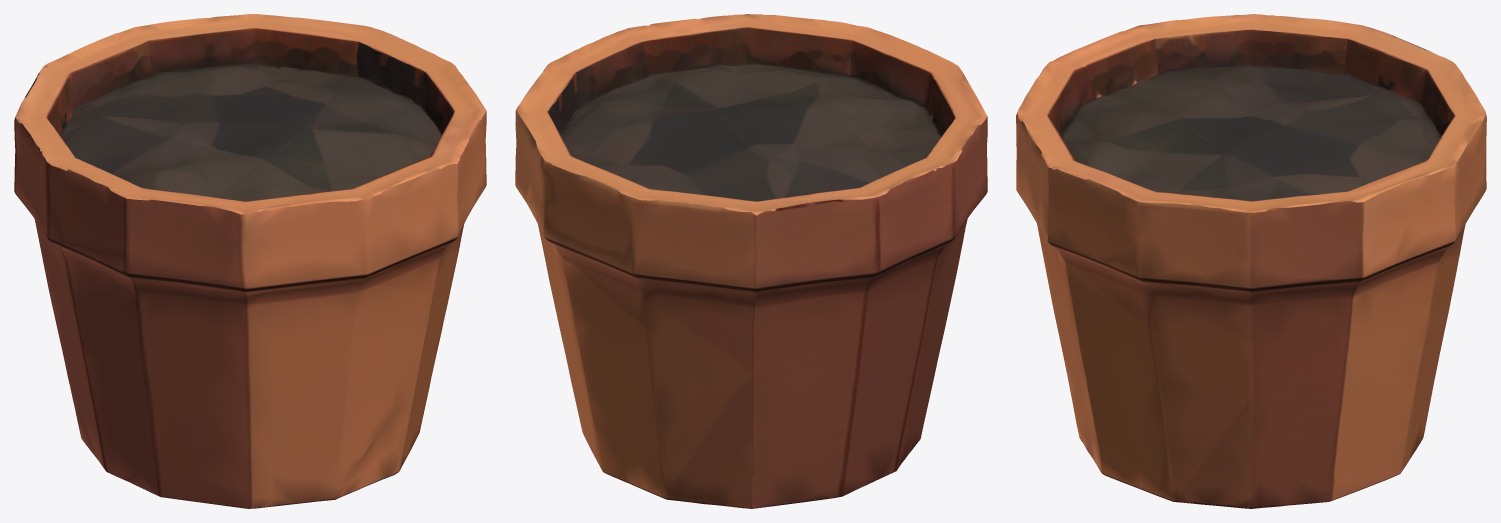
File: pot_2.glb
3 renders of one model, left to right at view 1: azimuth 30°, elevation 25°; view 2: azimuth 150°, elevation 25°; view 3: azimuth 270°, elevation 25°, orthographic.
Visible parts, largest first — view 1: tmpuxl23o1m.ply; view 2: tmpuxl23o1m.ply; view 3: tmpuxl23o1m.ply.
Boxes of the visible parts, bbox=[...] form: tmpuxl23o1m.ply: bbox=[14, 14, 486, 508]; tmpuxl23o1m.ply: bbox=[515, 14, 987, 508]; tmpuxl23o1m.ply: bbox=[1016, 14, 1486, 508].
Bounding box in the file's own units: 1.96 × 1.52 × 1.96.
1 material, 1 textured.
